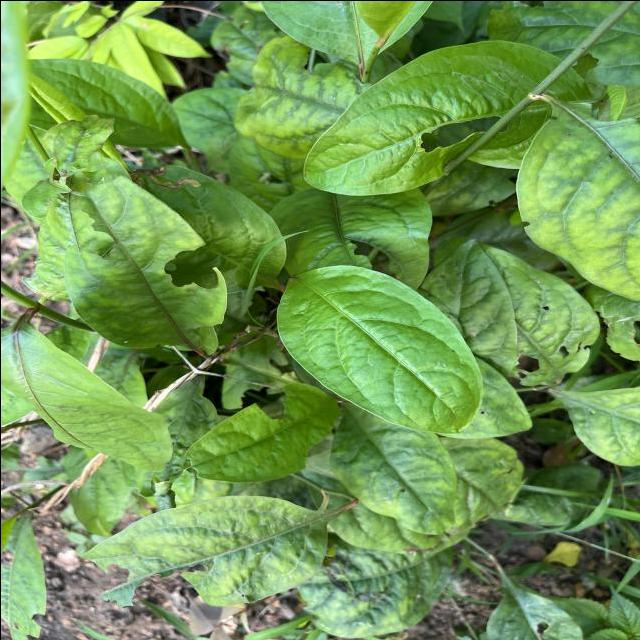Plumbago indica: (300, 35, 594, 196), (272, 262, 483, 434)
